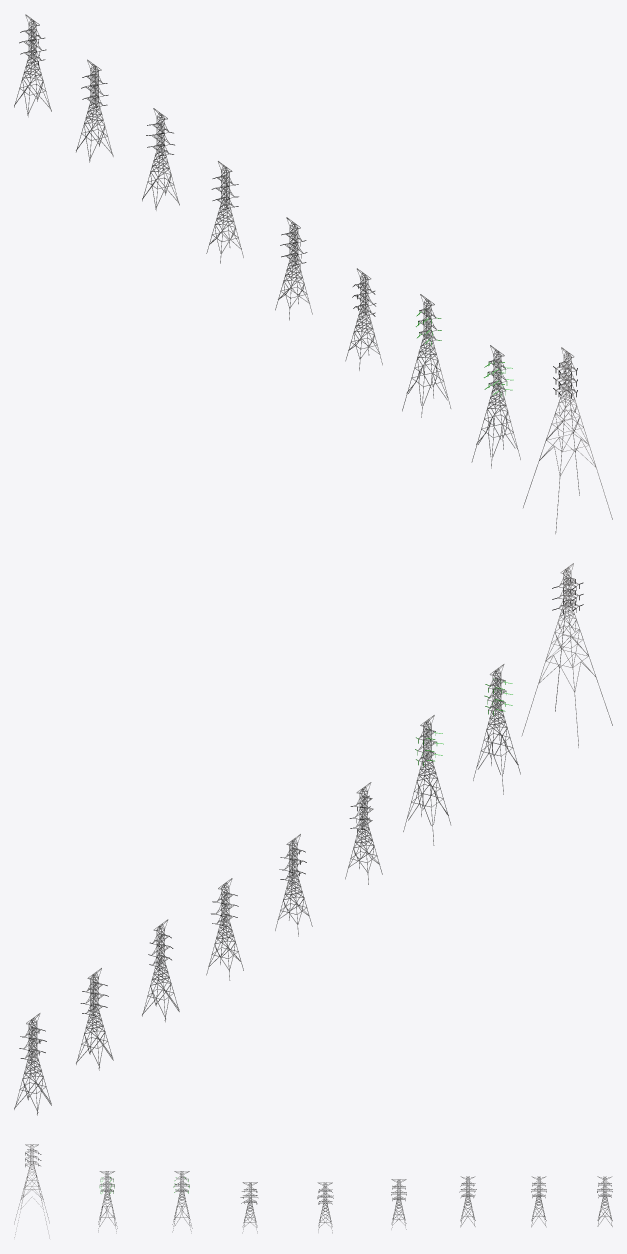
File: tva_pylon_pack_2.glb
The picture shows the model from 3 angles, top to bottom: view 1: azimuth 30°, elevation 25°; view 2: azimuth 150°, elevation 25°; view 3: azimuth 270°, elevation 25°; orthographic projection. The views are drawn at different scales.
Visible parts, largest first — view 1: Object_3, Object_2, Object_4, Object_7, Object_5; view 2: Object_2, Object_3, Object_4, Object_7, Object_5; view 3: Object_2, Object_3, Object_4, Object_5, Object_7, Object_6.
Boxes of the visible parts, x1,y1,x2,y2 form: Object_3: (14,30,520,468); Object_2: (14,14,516,447); Object_4: (15,23,507,444); Object_7: (523,347,612,534); Object_5: (24,23,505,392); Object_2: (14,664,515,1115); Object_3: (14,676,520,1113); Object_4: (15,672,507,1112); Object_7: (521,563,612,747); Object_5: (26,672,505,1059); Object_2: (99,1171,612,1233); Object_3: (98,1178,612,1233); Object_4: (103,1173,611,1225); Object_5: (100,1173,612,1202); Object_7: (14,1144,49,1238); Object_6: (100,1177,611,1201).
Size of the model in its own units: 2.34 by 6.4 by 39.21.
